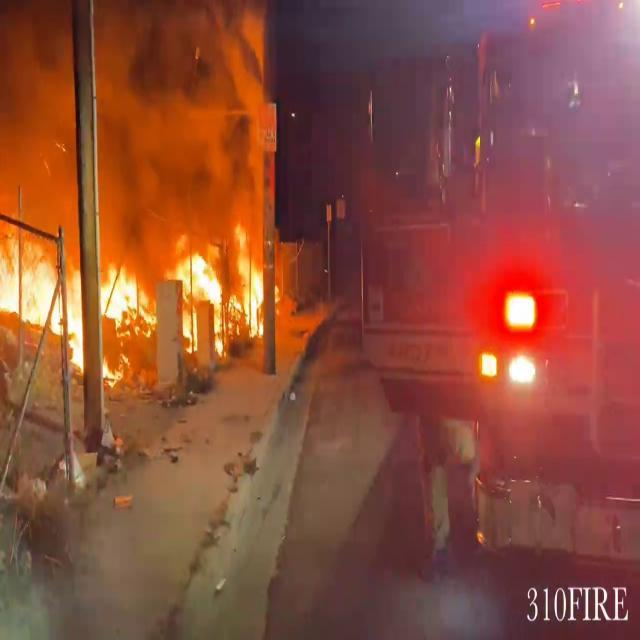Fire: (0, 214, 151, 362), (174, 217, 270, 351)
Smoke: (0, 1, 272, 227)
